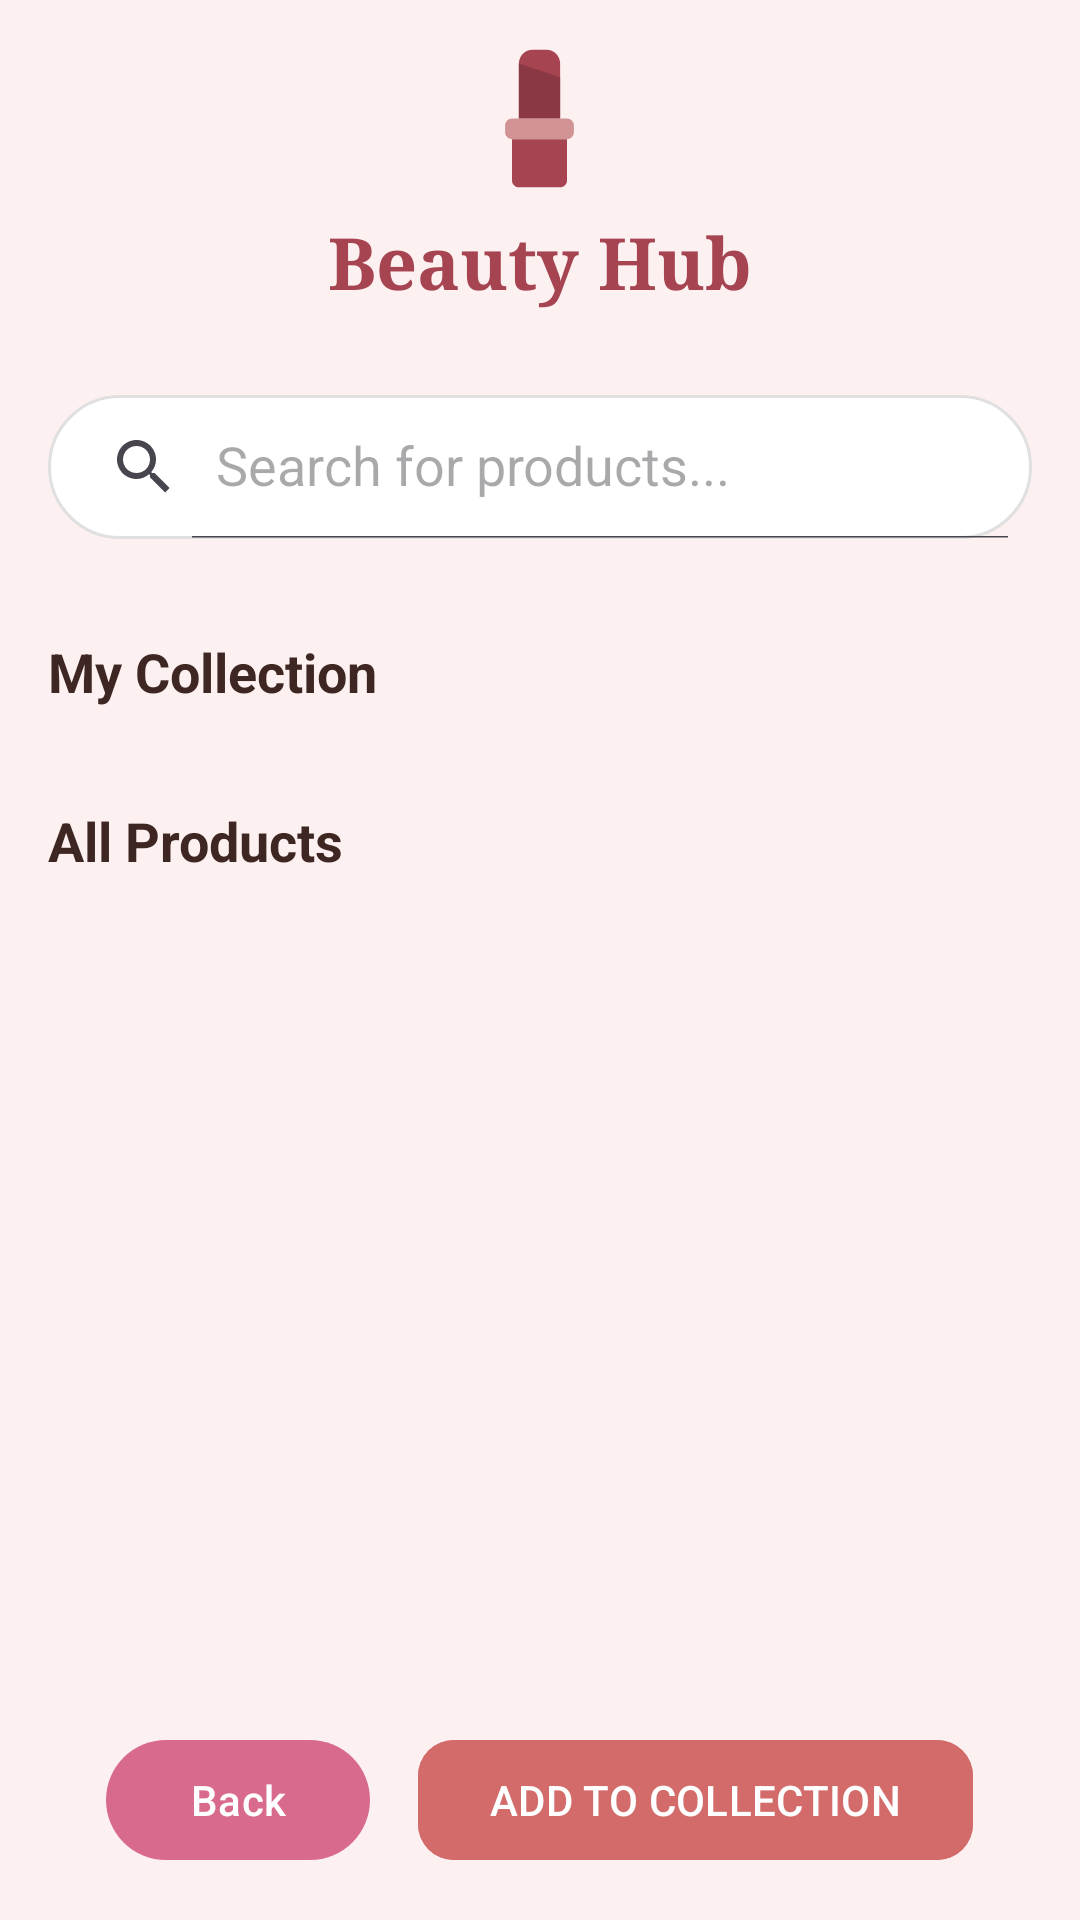

Point at icon controls on the screen. Image size 1080px x 1920px, points as (x=x, y=y).
lipstick: (x=539, y=118)
